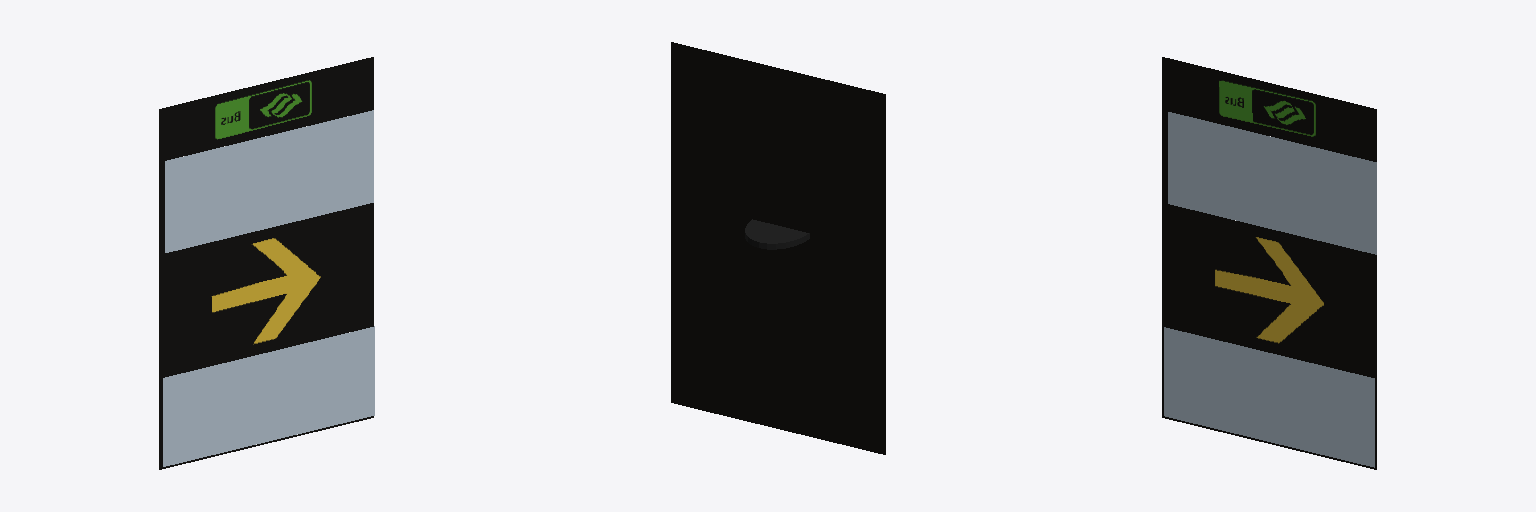
3 views of the same model, side by side, from view 1: azimuth 30°, elevation 25°; view 2: azimuth 150°, elevation 25°; view 3: azimuth 330°, elevation 25° (orthographic).
Visible parts, largest first — view 1: Mesh1 Group1 Model, Mesh3 Group2 Model, Mesh5 Group3 Model; view 2: Mesh1 Group1 Model, Mesh7 Component_16_1 Model; view 3: Mesh1 Group1 Model, Mesh3 Group2 Model, Mesh5 Group3 Model.
Part boxes in pixels (left/top/right/bottom): Mesh1 Group1 Model: left=159, top=57, right=373, bottom=469; Mesh3 Group2 Model: left=165, top=110, right=373, bottom=252; Mesh5 Group3 Model: left=163, top=326, right=374, bottom=466; Mesh1 Group1 Model: left=671, top=42, right=885, bottom=454; Mesh7 Component_16_1 Model: left=745, top=219, right=809, bottom=249; Mesh1 Group1 Model: left=1162, top=57, right=1376, bottom=469; Mesh3 Group2 Model: left=1168, top=112, right=1376, bottom=254; Mesh5 Group3 Model: left=1164, top=327, right=1374, bottom=467.
Bounding box in the file's own units: 1.03 × 1.65 × 0.1973.
9 materials, 3 textured.